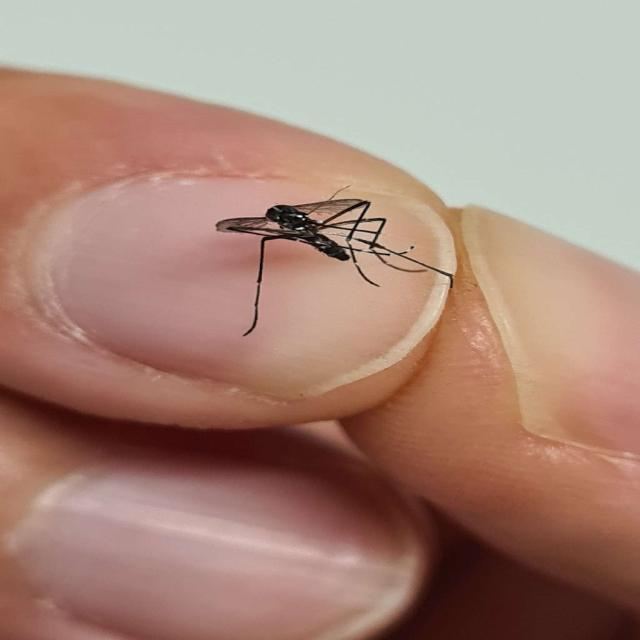albopictus: (212, 179, 457, 334)
